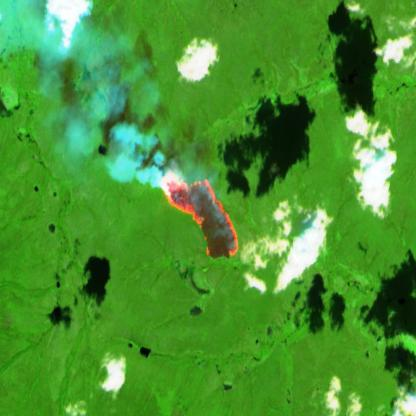fire: (158, 167, 240, 266)
